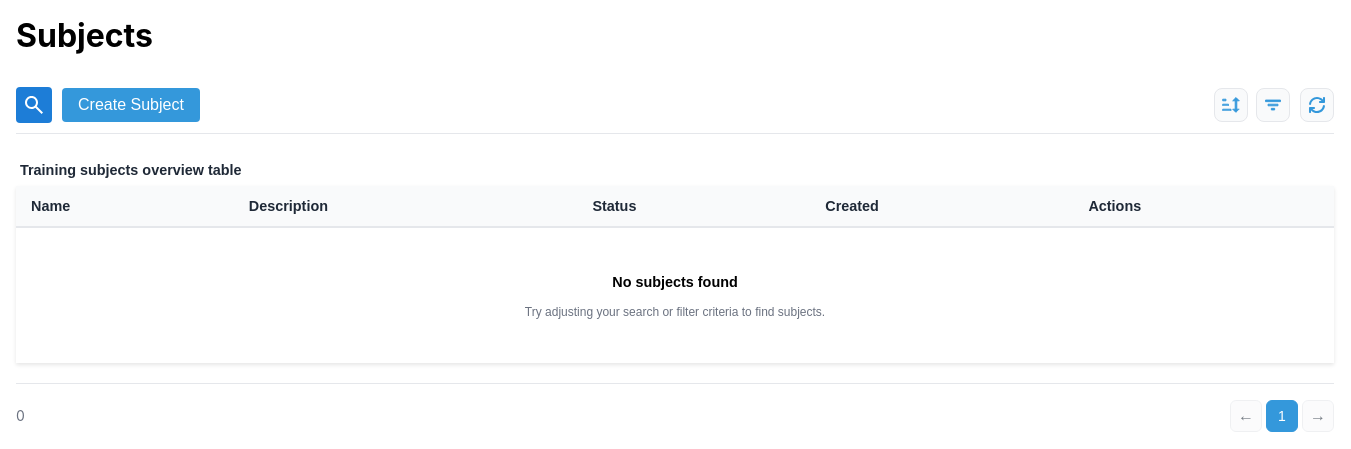
Scenario: SubjectsList (isolated) › renders heading and can toggle search input
Expected: the heading "Subjects" is shown, 16,16 -> 153,55
Click the button named "show search" at (34, 105), box 16,87 -> 52,123
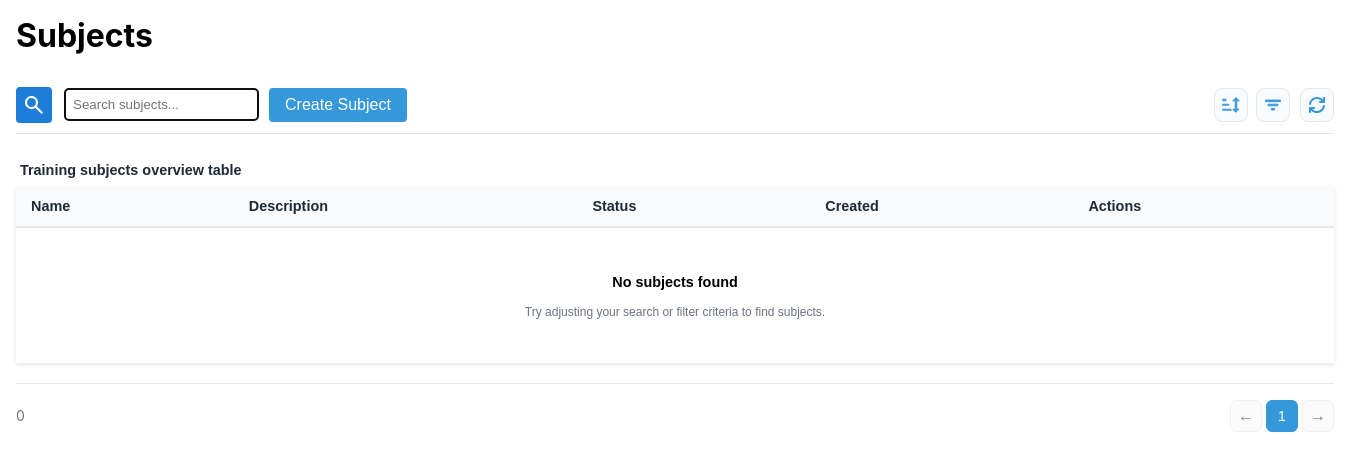
Expected: the field labelled "Search subjects..." is shown, 64,88 -> 259,121
